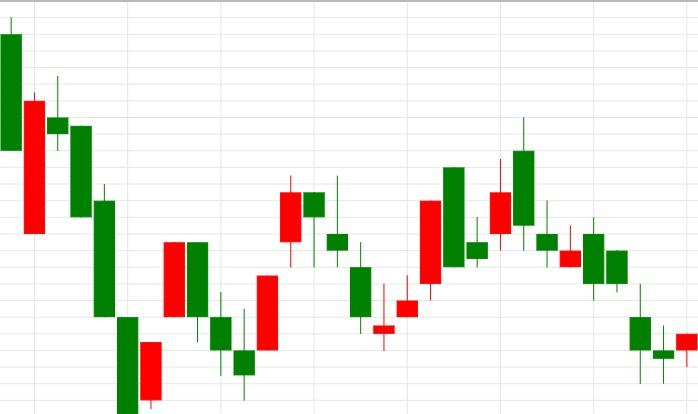hanging_man_fall: (234, 176, 325, 400)
morning_star_rise: (514, 116, 698, 383), (304, 176, 418, 352)
three_white_soldiers_rise: (304, 176, 441, 352)
